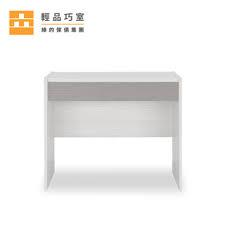desk: (28, 57, 191, 193)
